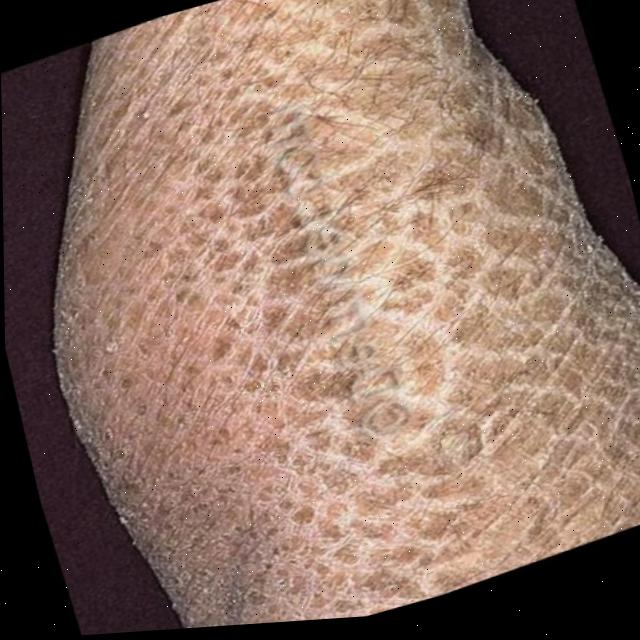Eczema: (175, 0, 592, 628)
